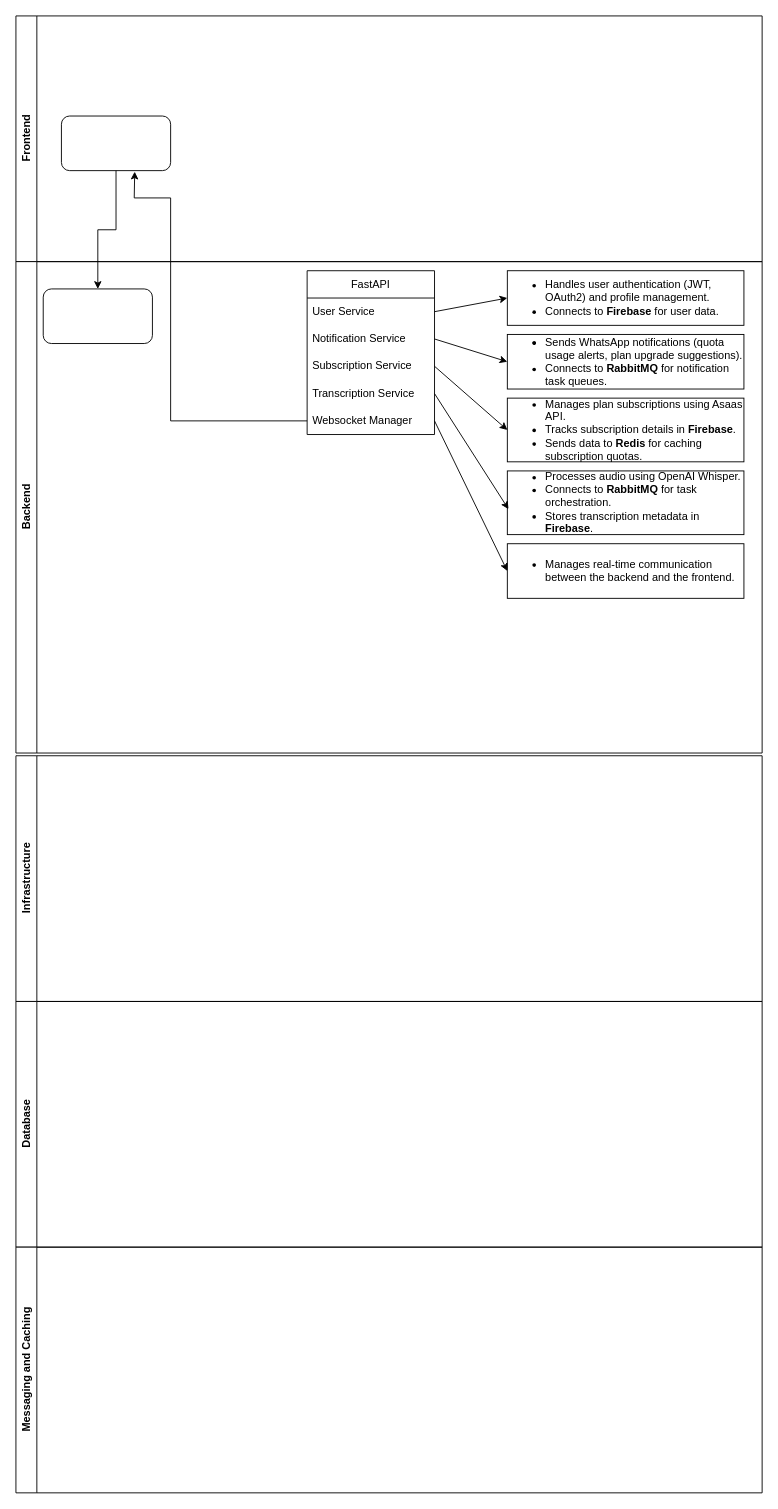
The diagram is 778 pixels wide and 1509 high, and some of its shapes have lost their labels. Here are the shapes that lost their labels. From the top down, the centre of each, then its label:
[116,143]: React app
[97,316]: Authentication, notification, data retrieval API
